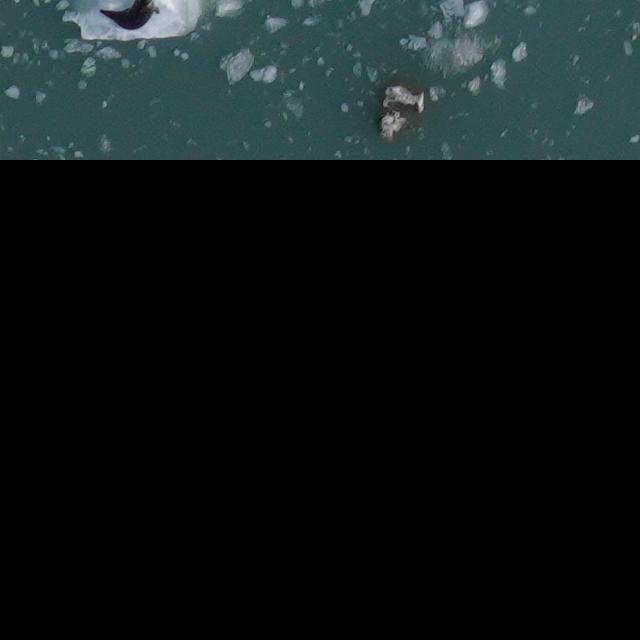seal: (97, 0, 164, 32)
